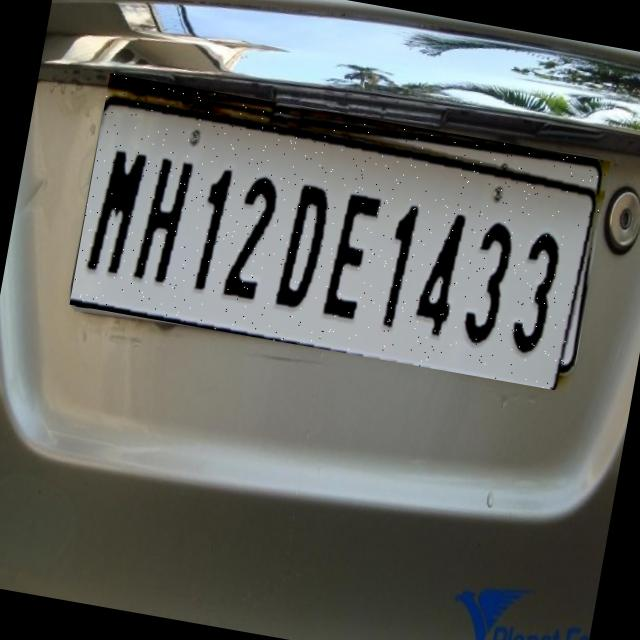Plate: (70, 74, 611, 394)
